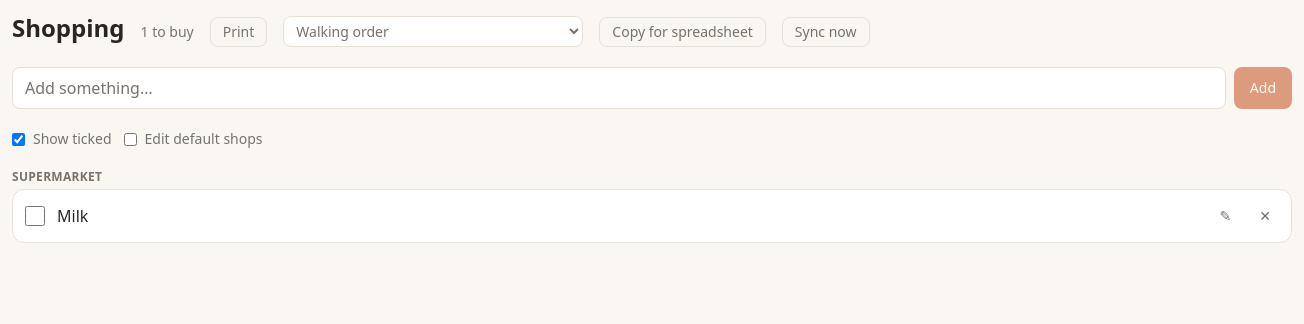
ShoppingListPage Google Sheet sync › shows sync errors in the error banner
Check: the text "Milk" is shown, box [57,205,88,227]
Click the button "Sync now". click: point(826, 32)
box: [782,17,870,47]
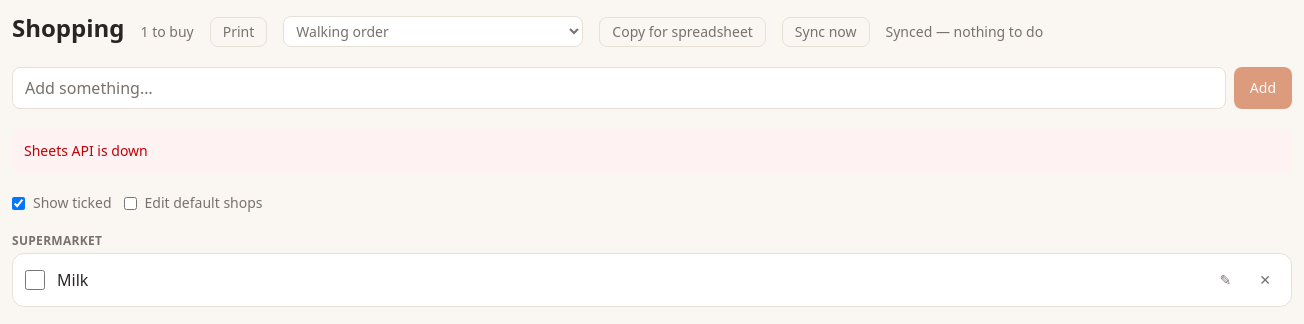
Check: the text "Sheets API is down" is shown, box [12,129,1292,173]
